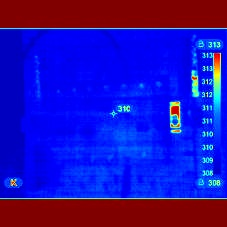Less: (172, 115, 178, 125)
